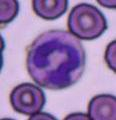N: (25, 30, 86, 90)
